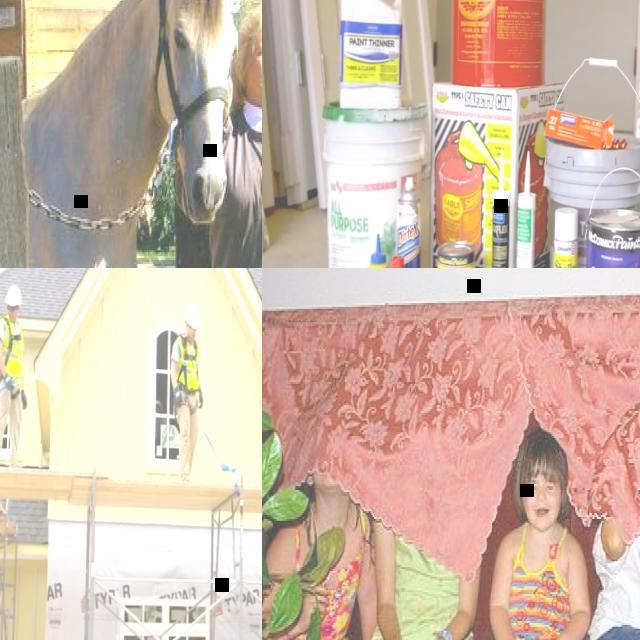Weapon: (493, 392, 586, 640), (135, 306, 243, 492), (0, 267, 40, 489)
objects: (0, 277, 54, 340), (171, 313, 239, 362)
